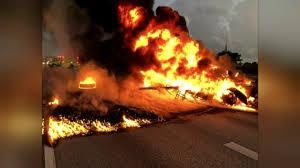fire: (127, 11, 255, 109), (78, 74, 96, 88)
